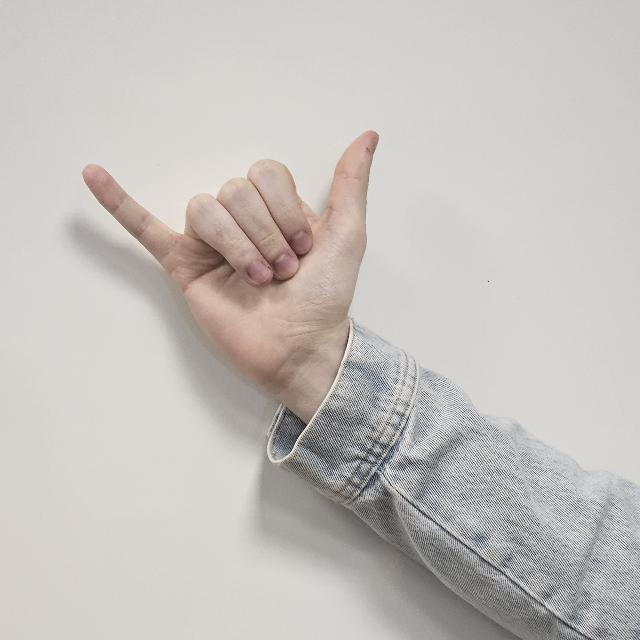Direita: (75, 126, 392, 440)
